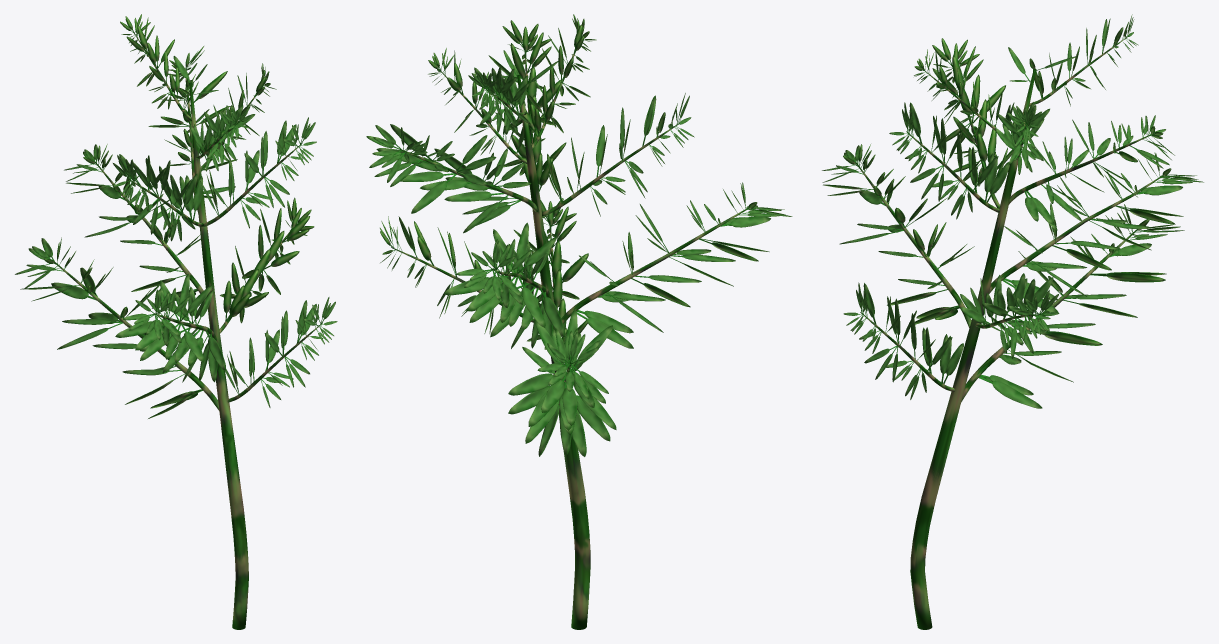
The model's file is sasa.fbx.
3 views of the same model, side by side, from view 1: azimuth 30°, elevation 25°; view 2: azimuth 150°, elevation 25°; view 3: azimuth 270°, elevation 25° (orthographic). The views are drawn at different scales.
Parts seen in each view (by area): view 1: sasa; view 2: sasa; view 3: sasa.
Part boxes in pixels (bbox=[...]): sasa: bbox=[15, 14, 337, 629]; sasa: bbox=[366, 14, 792, 629]; sasa: bbox=[822, 14, 1203, 629].
Bounding box in the file's own units: 117 × 230 × 133.
Materials: 1 (1 with a texture image).
